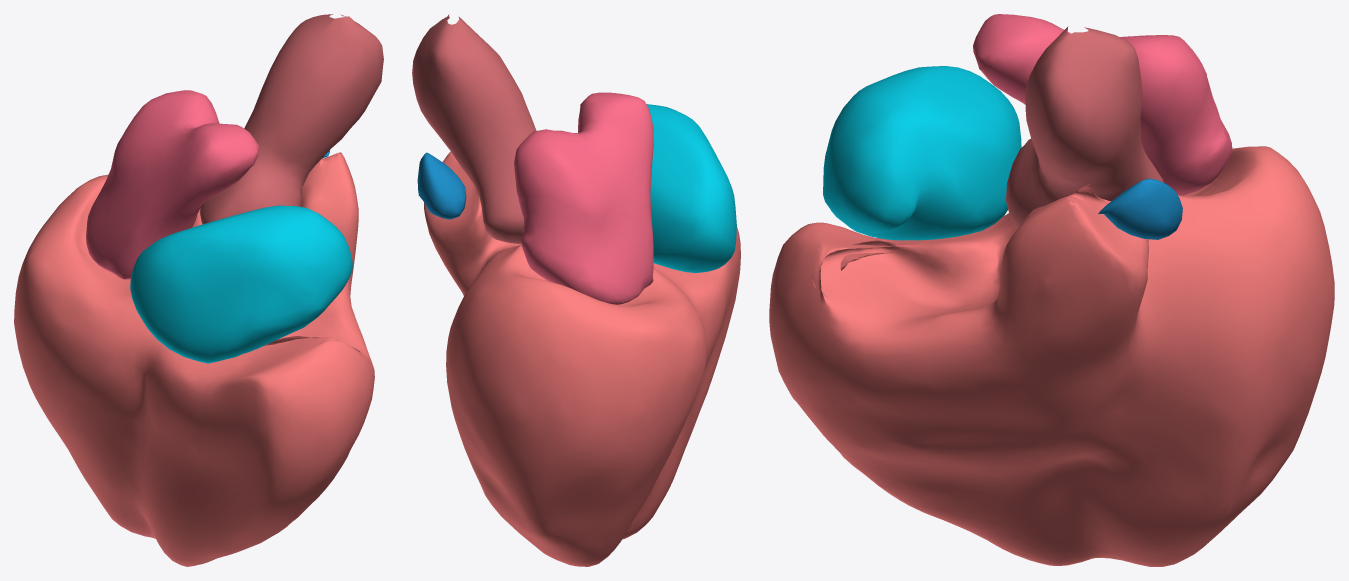
File: frame_51.glb
3 views of the same model, side by side, from view 1: azimuth 30°, elevation 25°; view 2: azimuth 150°, elevation 25°; view 3: azimuth 270°, elevation 25° (orthographic). The views are drawn at different scales.
Parts seen in each view (by area): view 1: Renderer Node; view 2: Renderer Node; view 3: Renderer Node.
Part boxes in pixels (x1,y1,x2,y2): Renderer Node: (14,14,383,566); Renderer Node: (412,14,740,566); Renderer Node: (769,14,1334,566).
Size of the model in its own units: 102 by 158 by 127.
